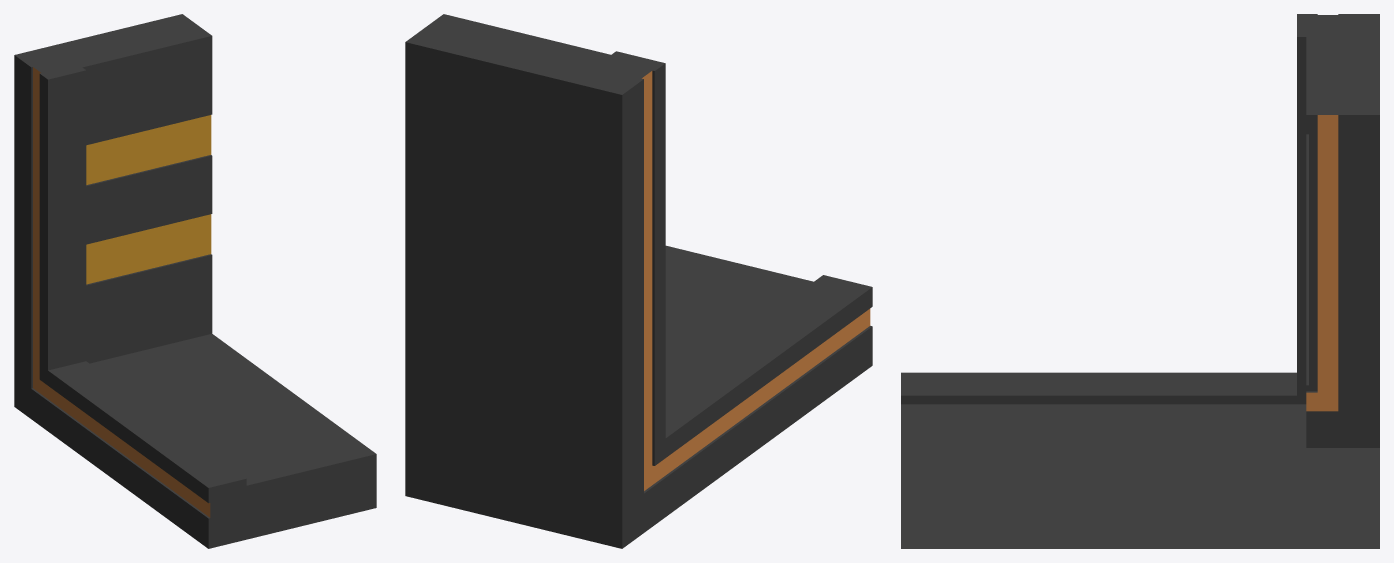
Rendered from Tunnel_A.FBX.
3 views of the same model, side by side, from view 1: azimuth 30°, elevation 25°; view 2: azimuth 150°, elevation 25°; view 3: azimuth 270°, elevation 25° (orthographic). The views are drawn at different scales.
Parts seen in each view (by area): view 1: Tunnel_A; view 2: Tunnel_A; view 3: Tunnel_A.
Part boxes in pixels (left/top/right/bottom): Tunnel_A: left=14, top=14, right=376, bottom=548; Tunnel_A: left=405, top=14, right=872, bottom=548; Tunnel_A: left=901, top=14, right=1379, bottom=548.
Bounding box in the file's own units: 90 × 180 × 180.
